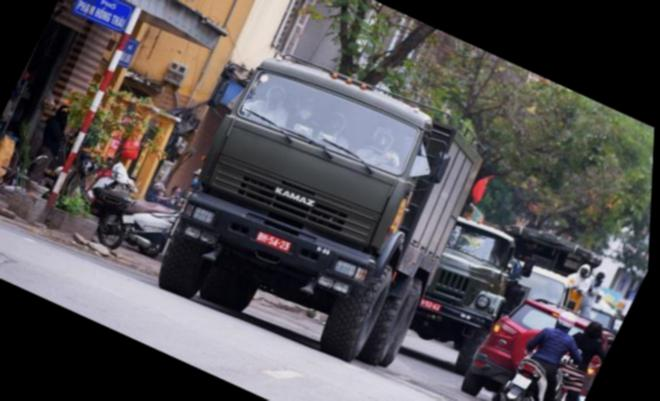License_Plate: (253, 229, 292, 257), (415, 293, 445, 316)
